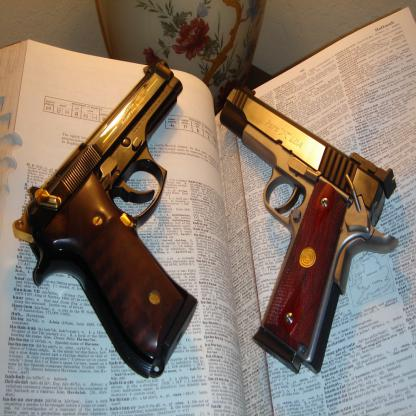Handgun: (13, 59, 198, 378), (220, 86, 398, 374)
